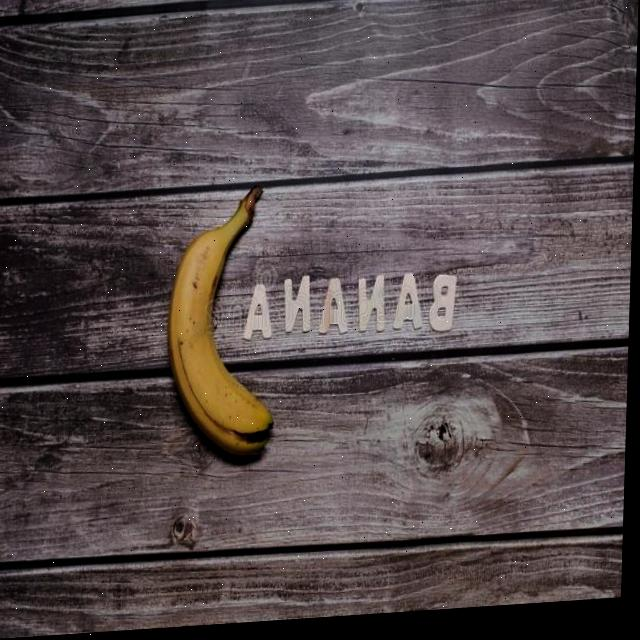banana: (160, 193, 276, 480)
